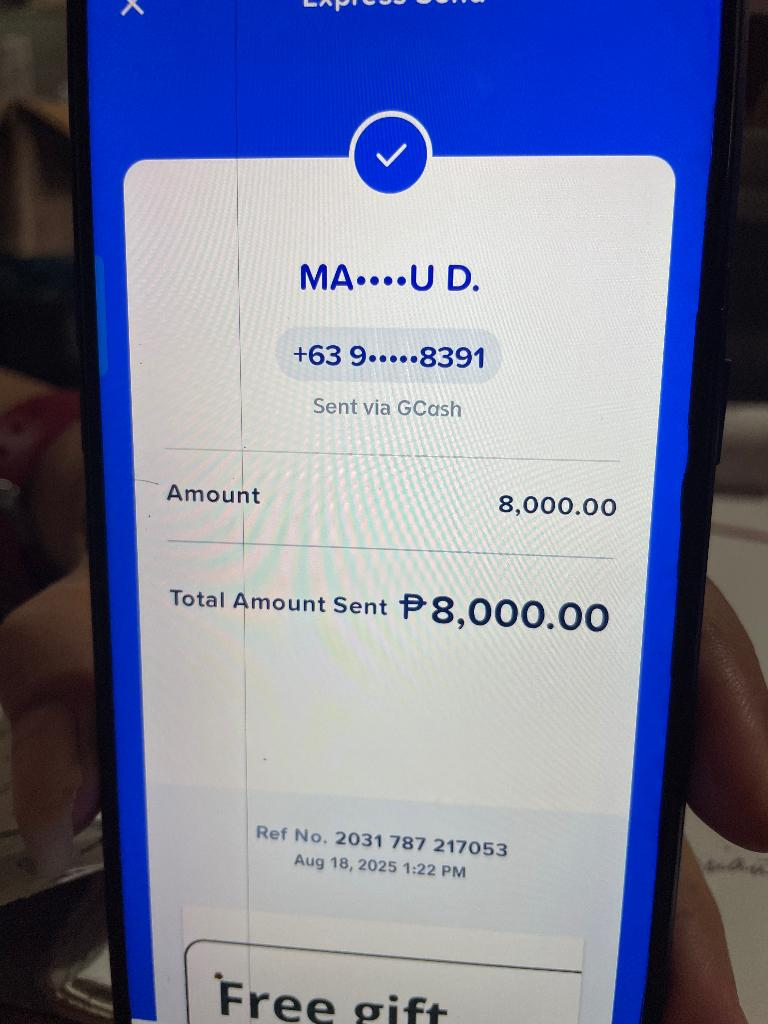Receipt: (92, 47, 725, 1023)
